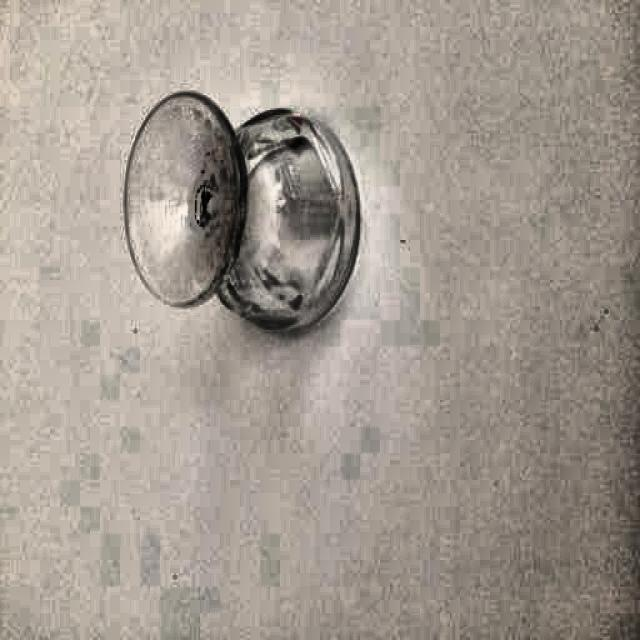glass: (120, 86, 365, 340)
